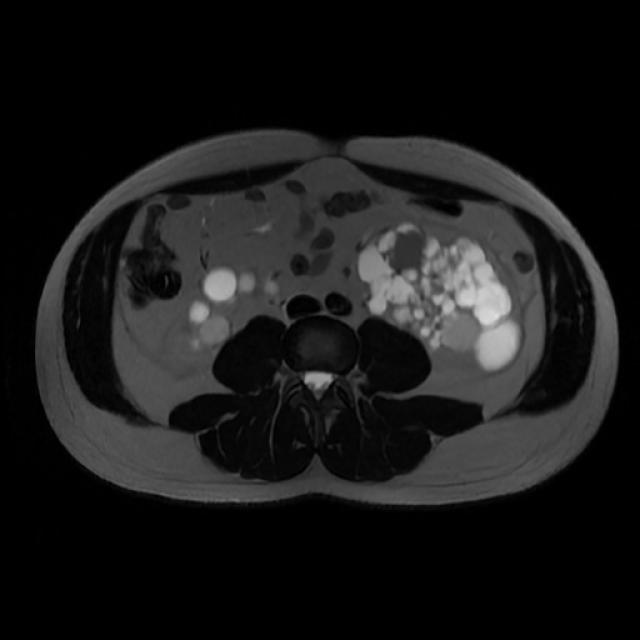sag: (189, 267, 280, 349)
sol: (357, 221, 522, 373)
